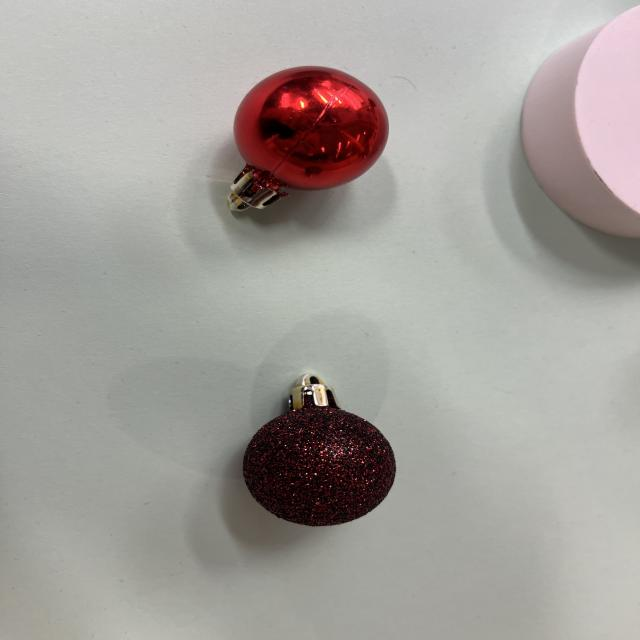glitter-bauble: (205, 362, 428, 532), (242, 373, 397, 529)
glossy-bauble: (191, 59, 424, 221), (232, 67, 389, 210)
